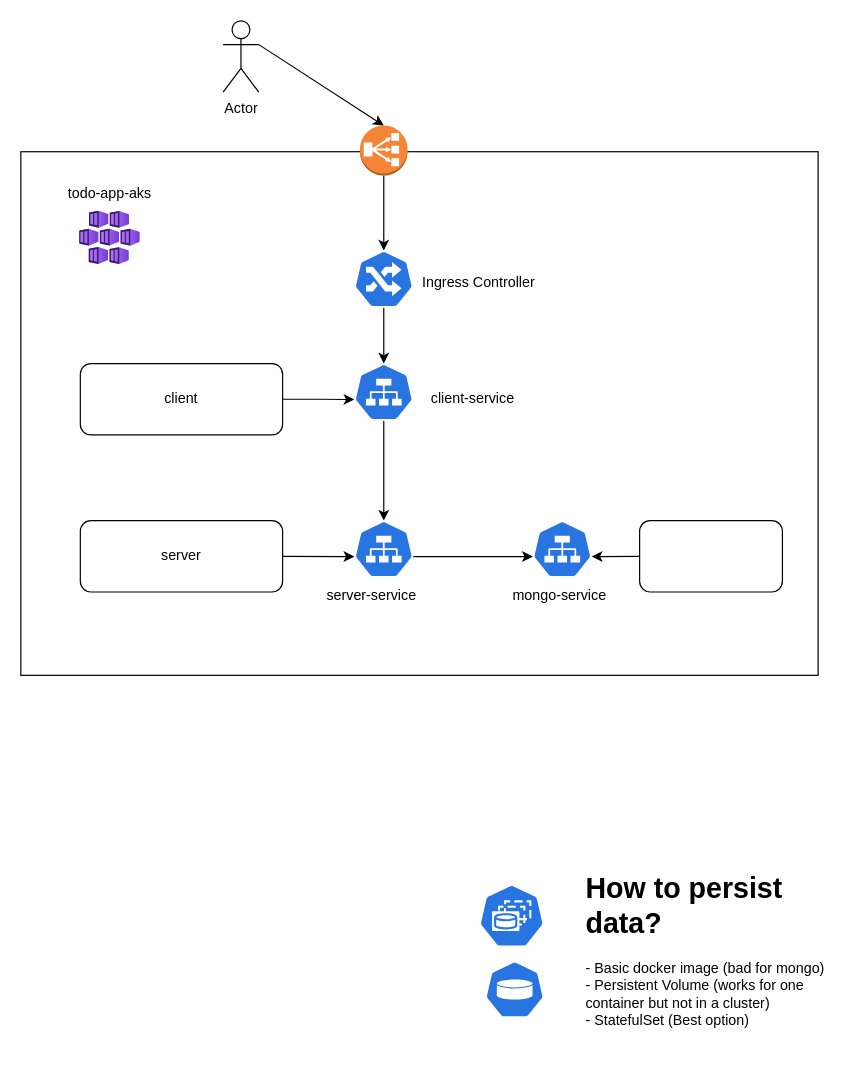
Some shapes in this 863 by 1077 pixel diagram are drawn without their labels. Each missing label, with the box of its shape:
LoadBalancer: (359, 124, 408, 176)
mongo: (638, 519, 782, 592)
